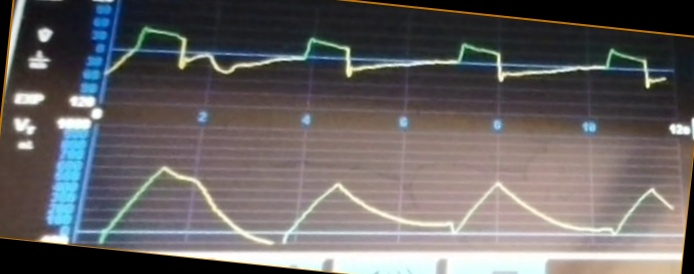Premature_cycling Flow: (109, 26, 668, 104)
Premature_cycling Volume: (91, 164, 673, 247)
